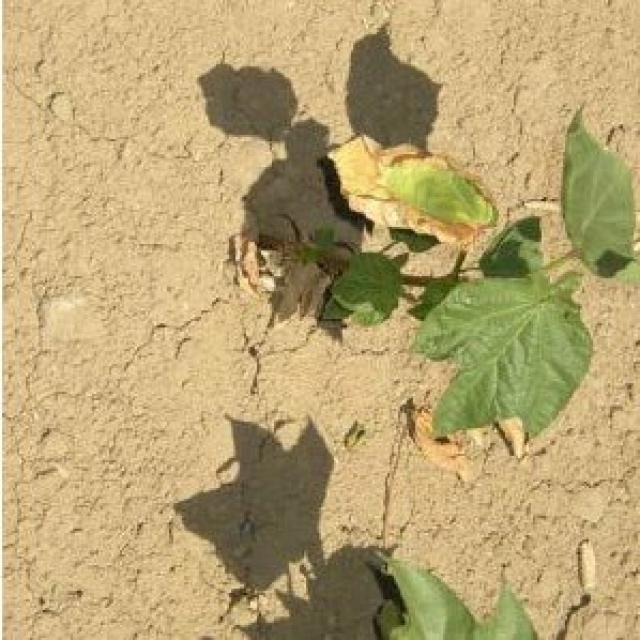Fusarium Wilt: (280, 120, 640, 447)
